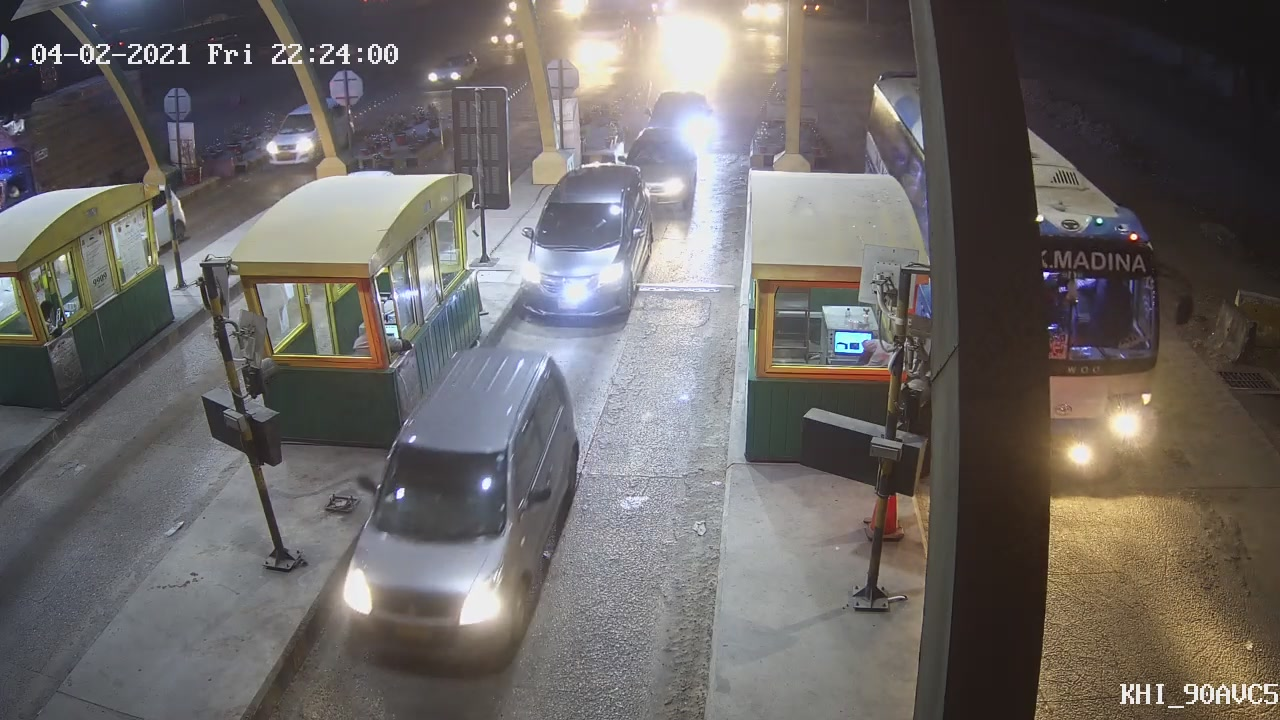F1: (335, 340, 585, 658), (512, 160, 654, 324)
